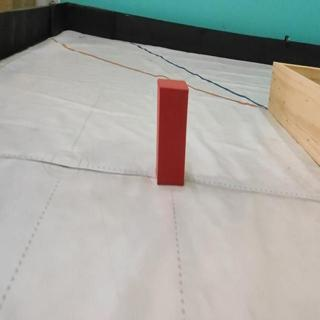redbox: (155, 77, 189, 187)
